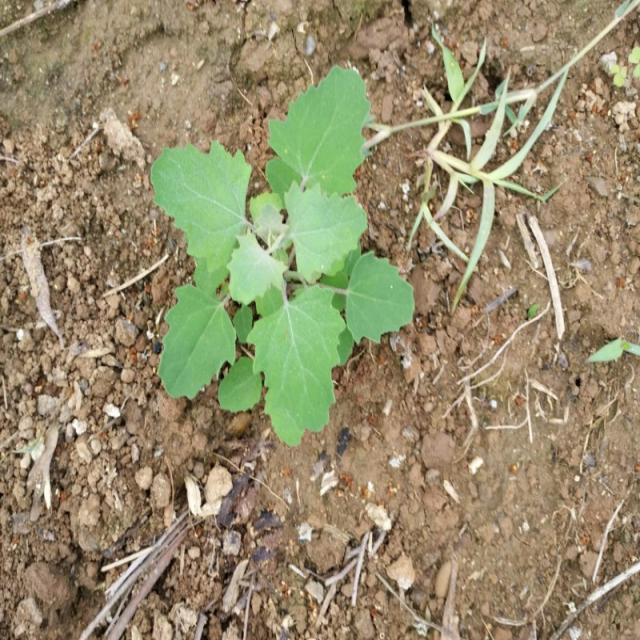ca: (153, 64, 416, 450)
